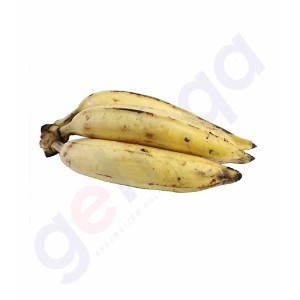banana_brain food: (73, 93, 229, 191)
